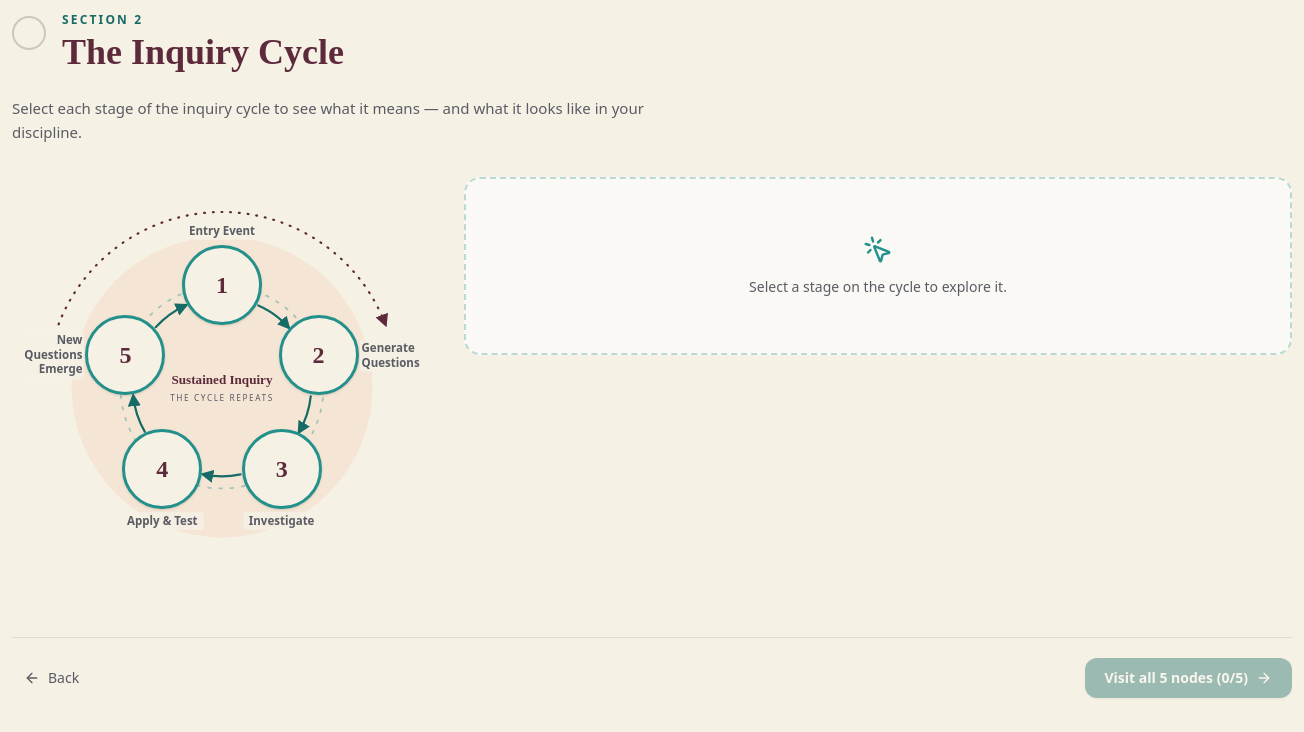
it: Cycle (S2 — the inquiry cycle) › shows the node definition and swaps the example when a discipline chip is selected
Click the button "1 Entry Event": [222, 285] box [182,245,262,325]
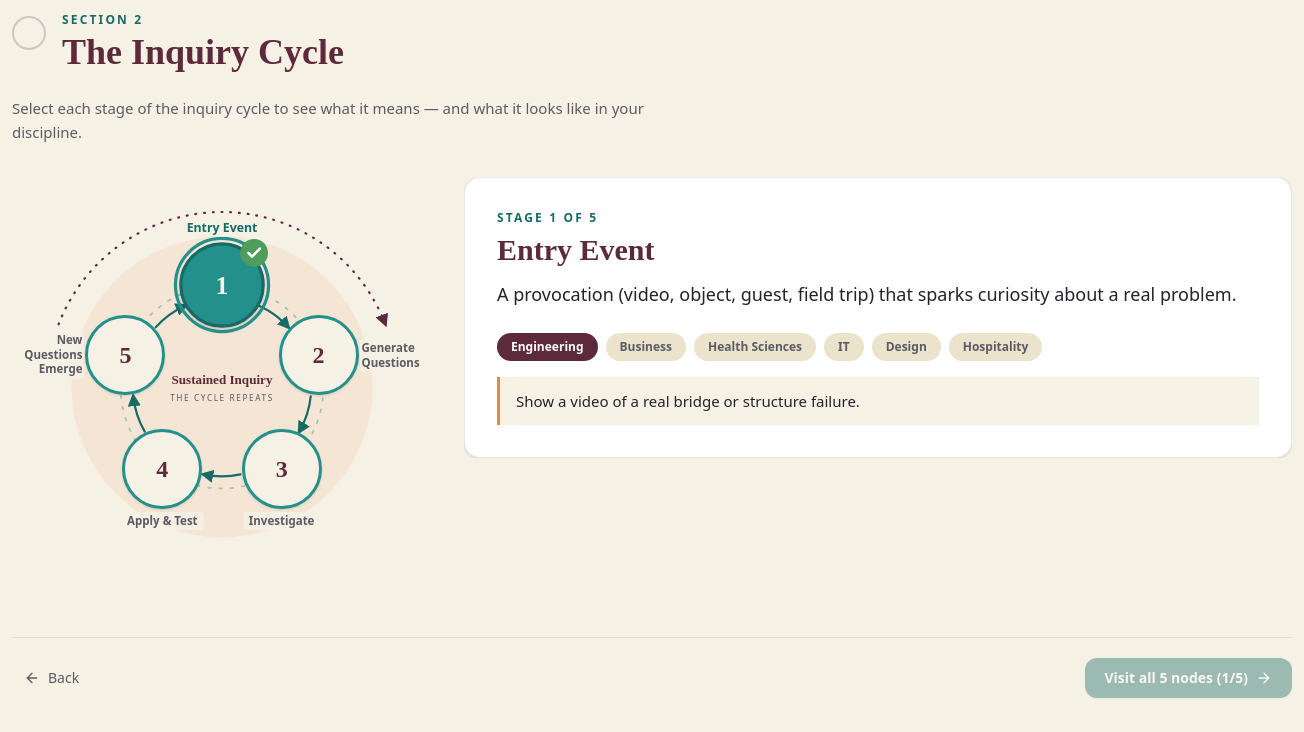
Now the text "A provocation (video, object, guest, field trip) that sparks curiosity about a real problem." is shown, box [497,282,1236,306]
Now the text "Show a video of a real bridge or structure failure." is shown, box [497,377,1259,425]
Click the tab "Business": [646, 347] box [606,333,686,361]
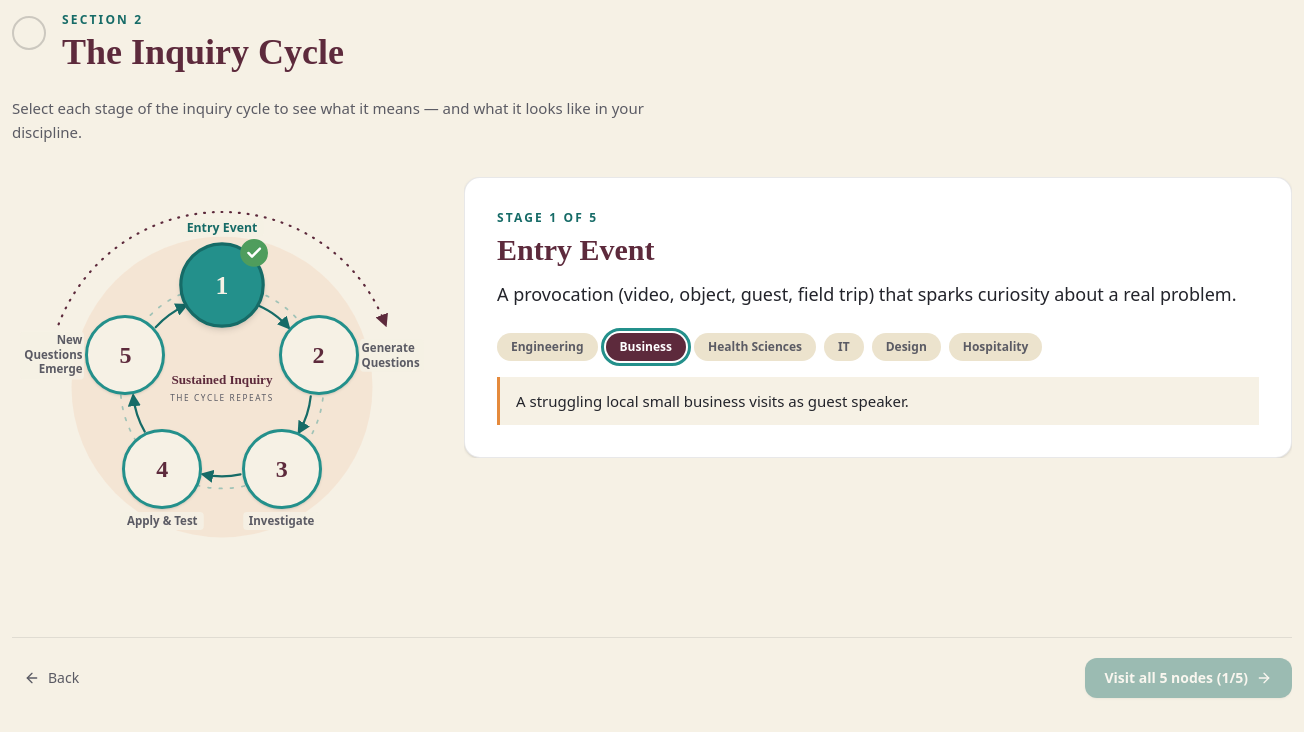
Now the text "A struggling local small business visits as guest speaker." is shown, box [497,377,1259,425]
Now the text "Show a video of a real bridge or structure failure." is gone
